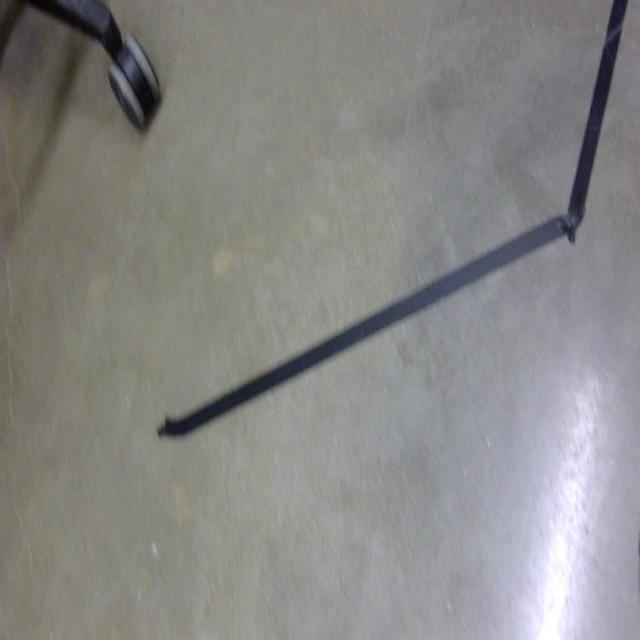tape: (132, 0, 635, 475)
